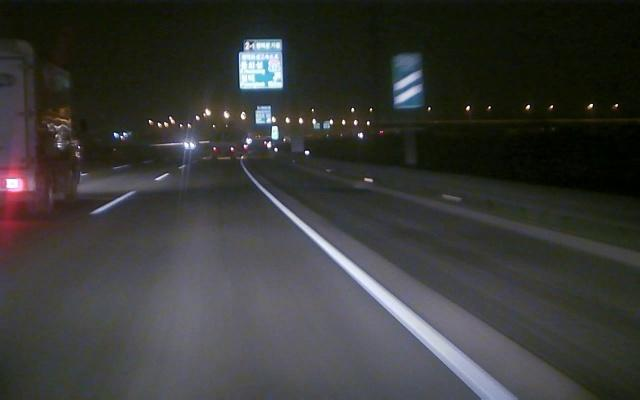lane: (248, 176, 519, 398), (90, 192, 134, 215)
